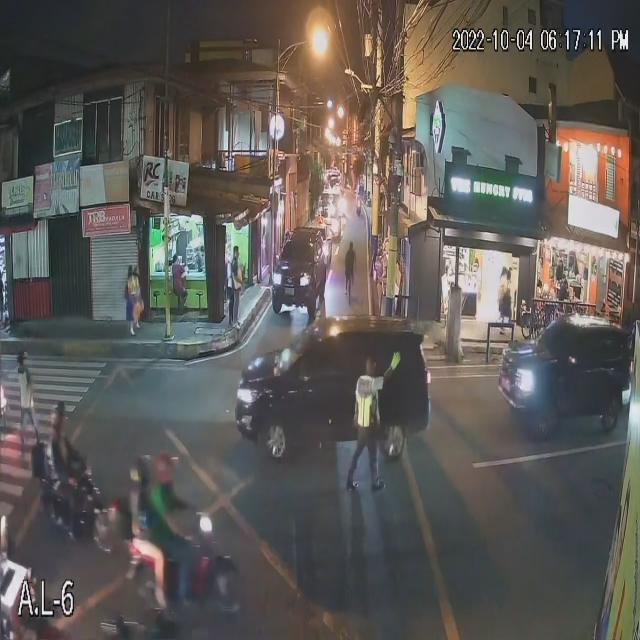helmet: (151, 452, 178, 481)
motorcycle: (127, 500, 240, 619), (34, 437, 104, 543)
rider: (143, 451, 201, 606), (125, 451, 174, 612), (44, 400, 83, 502)
